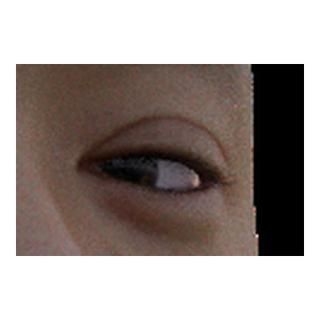pupil: (98, 153, 135, 190)
